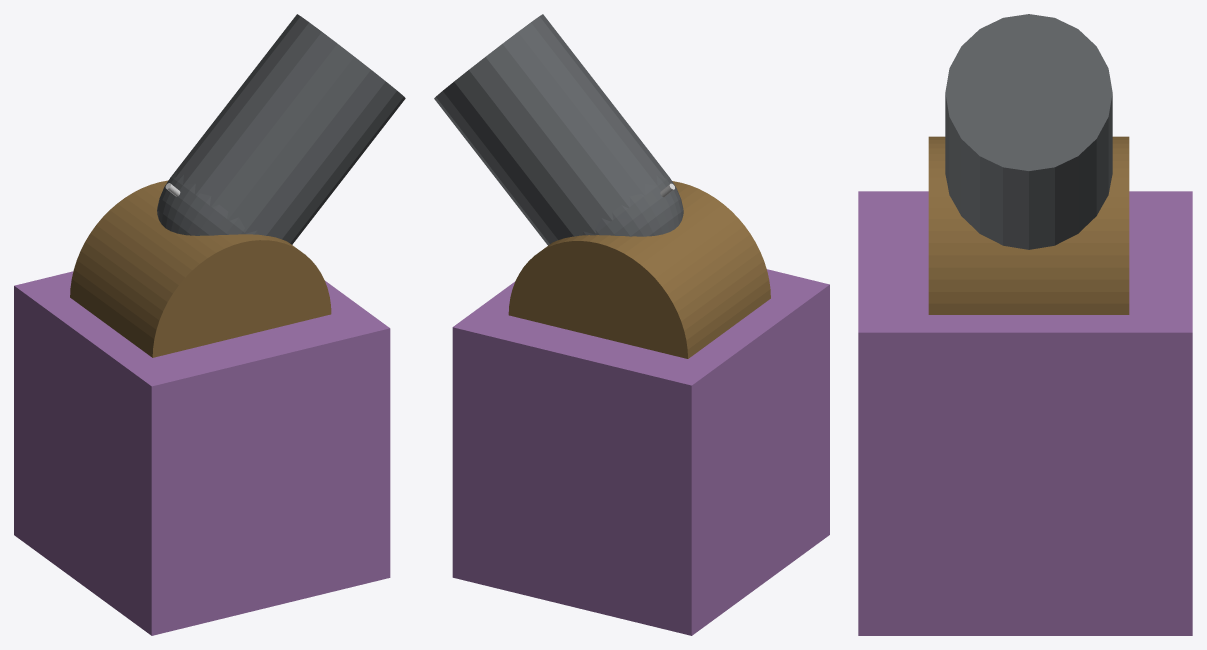
Rendered from cannon_tower.glb.
3 renders of one model, left to right at view 1: azimuth 30°, elevation 25°; view 2: azimuth 150°, elevation 25°; view 3: azimuth 270°, elevation 25°, orthographic. The views are drawn at different scales.
Visible parts, largest first — view 1: Mesh_Mesh_head_geo.001_lambert2SG.001; view 2: Mesh_Mesh_head_geo.001_lambert2SG.001; view 3: Mesh_Mesh_head_geo.001_lambert2SG.001.
Boxes of the visible parts, x1,y1,x2,y2 form: Mesh_Mesh_head_geo.001_lambert2SG.001: (14, 14, 405, 635); Mesh_Mesh_head_geo.001_lambert2SG.001: (434, 14, 829, 635); Mesh_Mesh_head_geo.001_lambert2SG.001: (858, 14, 1192, 635).
Bounding box in the file's own units: 52.36 × 81.21 × 40.
